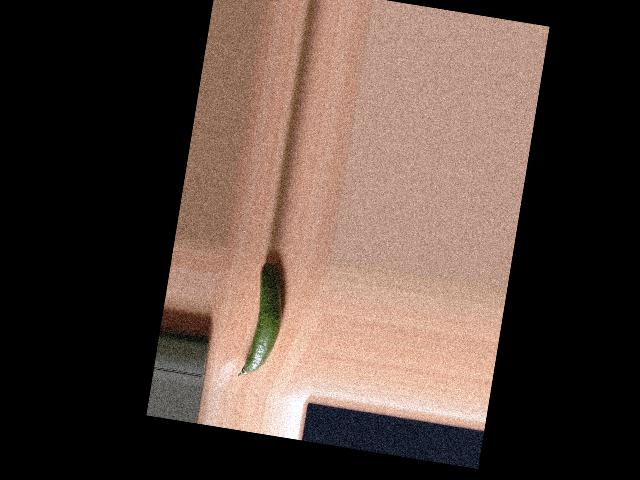cucumber: (238, 259, 291, 382)
